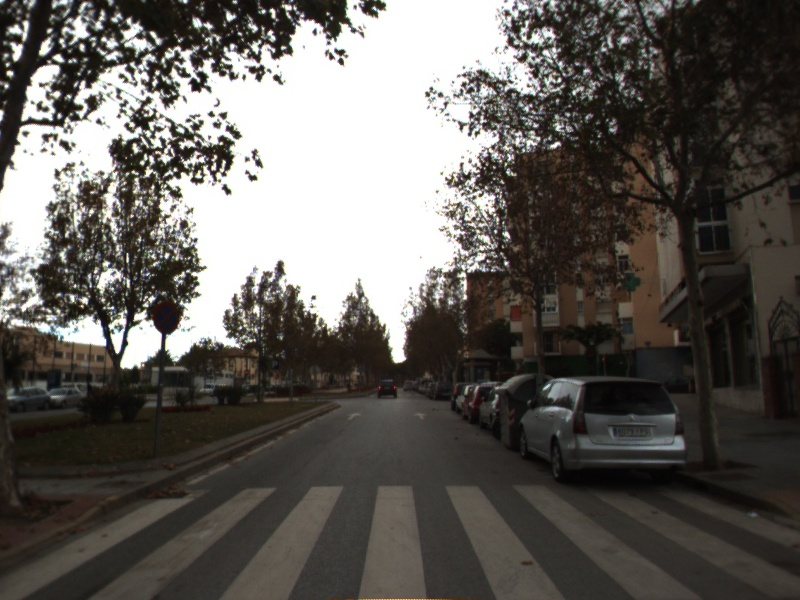STRAIGHT: (344, 411, 363, 422), (411, 410, 429, 421)
